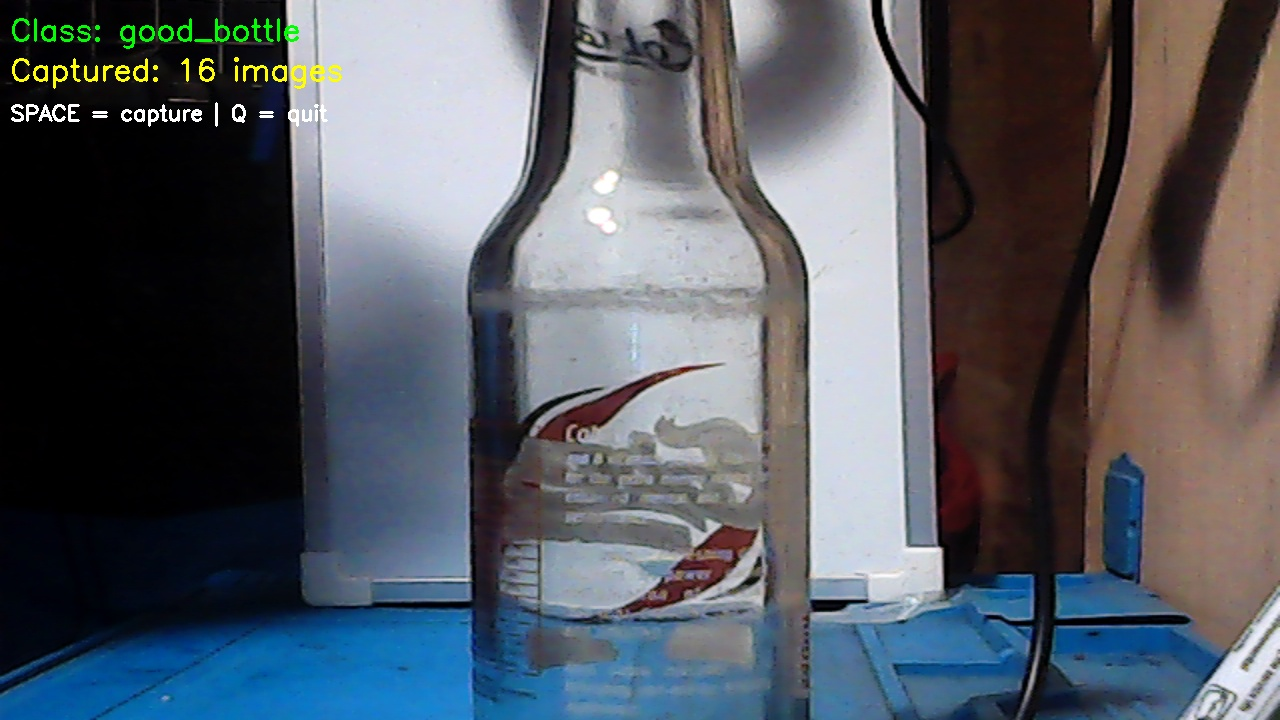good_bottle: (454, 41, 808, 716)
